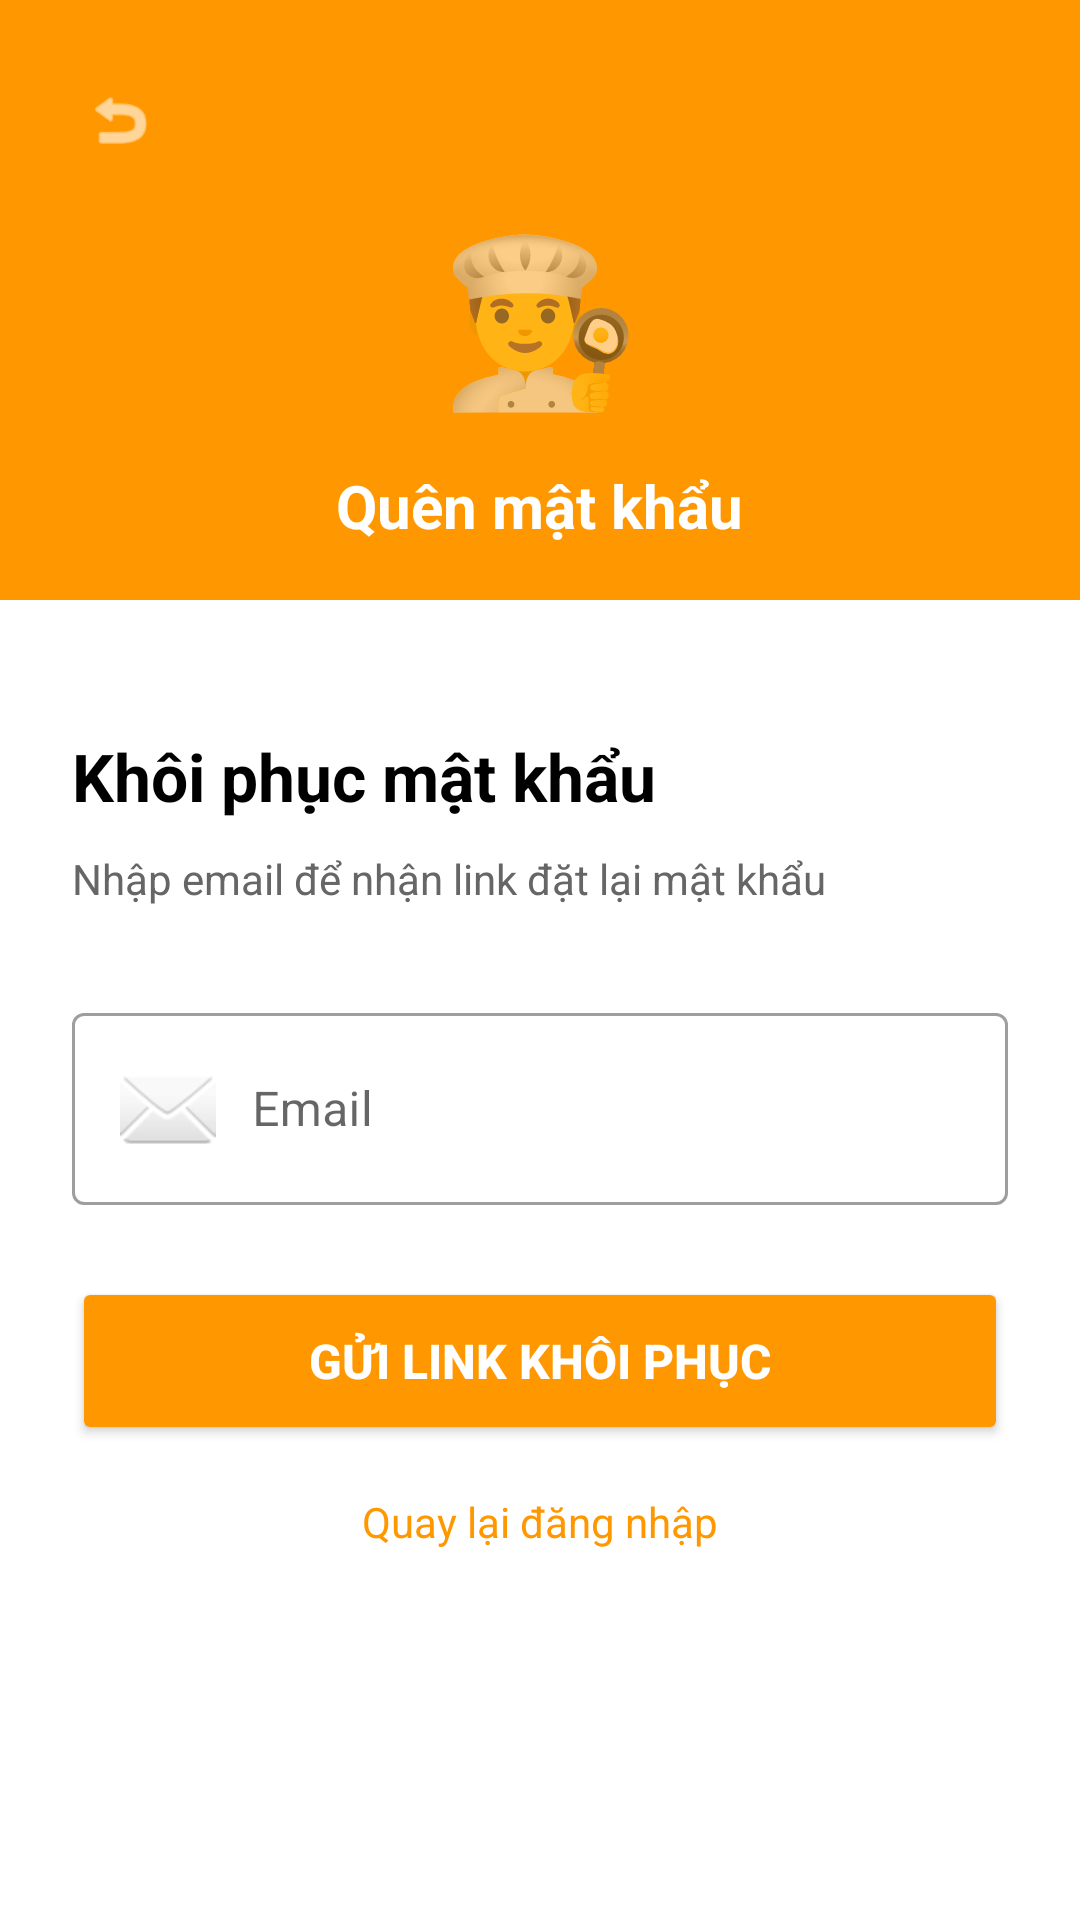

Icons on this 1080*1920 Android screen, each with the point to tap as [x,y]:
revert: [121,120]
